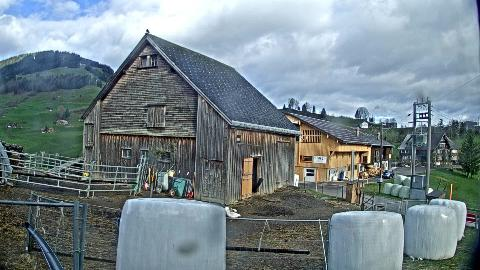car: (382, 169, 394, 179)
sheep: (253, 178, 263, 193)
